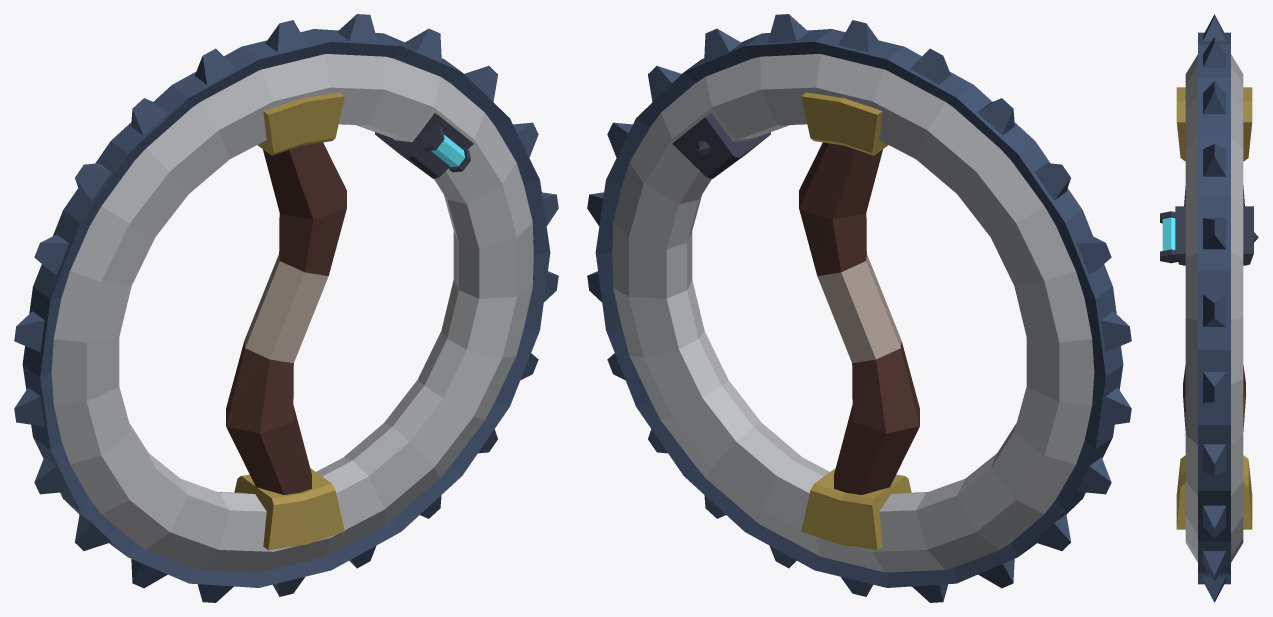
File: chakram-fe3ecf.glb
3 renders of one model, left to right at view 1: azimuth 30°, elevation 25°; view 2: azimuth 150°, elevation 25°; view 3: azimuth 270°, elevation 25°, orthographic. The views are drawn at different scales.
Parts seen in each view (by area): view 1: ring-body-metal, rim-mesh, ring-body, beacon-fittings; view 2: ring-body-metal, rim-mesh, ring-body, beacon-fittings; view 3: rim-mesh, ring-body-metal, beacon-fittings, beacon-lens, ring-body.
Part boxes in pixels (x1,y1,x2,y2): ring-body-metal: (51,54,533,572); rim-mesh: (14,14,558,602); ring-body: (226,142,346,494); beacon-fittings: (375,113,473,178); ring-body-metal: (612,54,1094,572); rim-mesh: (587,14,1131,602); ring-body: (799,142,919,494); beacon-fittings: (672,113,770,178); rim-mesh: (1198,14,1230,602); ring-body-metal: (1176,54,1252,562); beacon-fittings: (1160,206,1258,265); beacon-lens: (1162,217,1175,250); ring-body: (1183,185,1245,431).
Size of the model in its own units: 0.4292 by 0.432 by 0.072.
